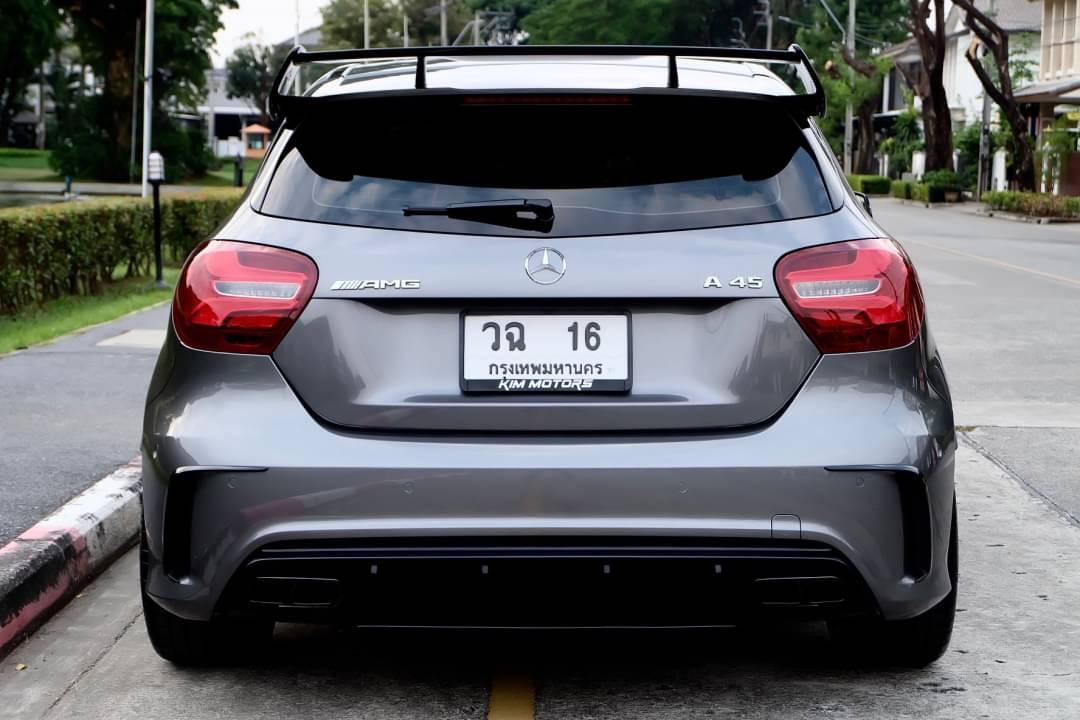license-plate: (457, 302, 634, 398)
